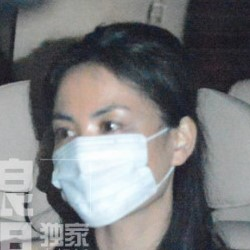mask: (43, 126, 177, 224)
